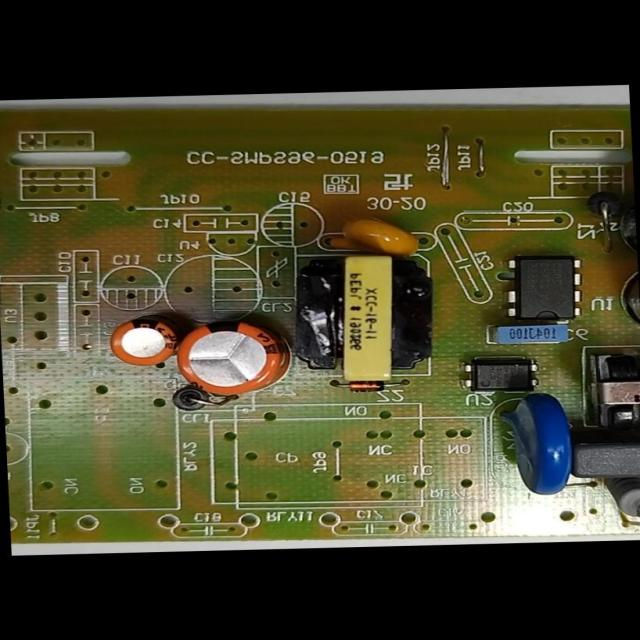Cap1: (170, 310, 296, 404)
Cap2: (93, 313, 188, 369)
Cap4: (587, 172, 637, 266)
MOSFET: (499, 250, 592, 325)
Mov: (489, 386, 584, 499)
Resistor: (598, 478, 639, 532)
Transformer: (285, 247, 441, 386), (581, 343, 639, 438)
